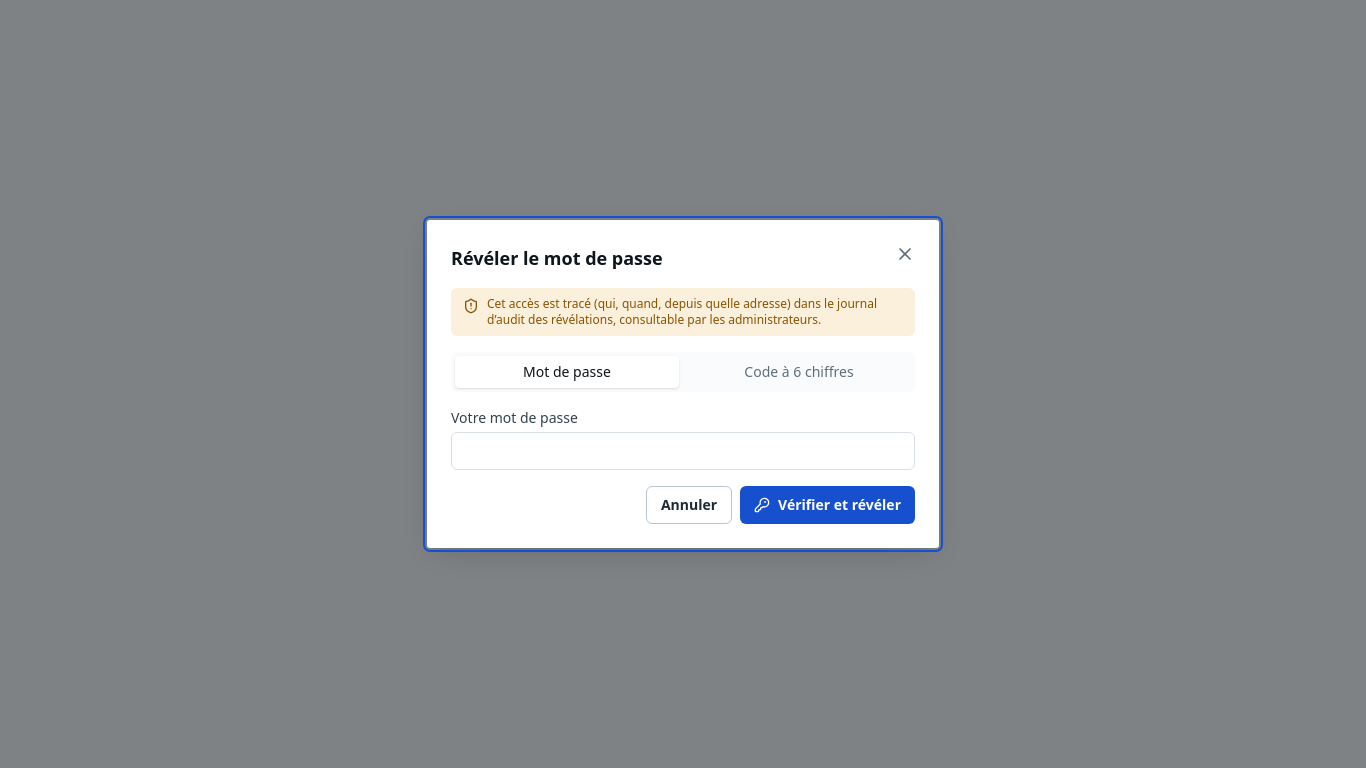
it: RevealSecretModal › ré-authentification › affiche le secret déchiffré après une ré-authentification réussie
Type "MotDePasse!" into the password field labelled "Votre mot de passe". click: (683, 451)
box: [451,432,915,470]
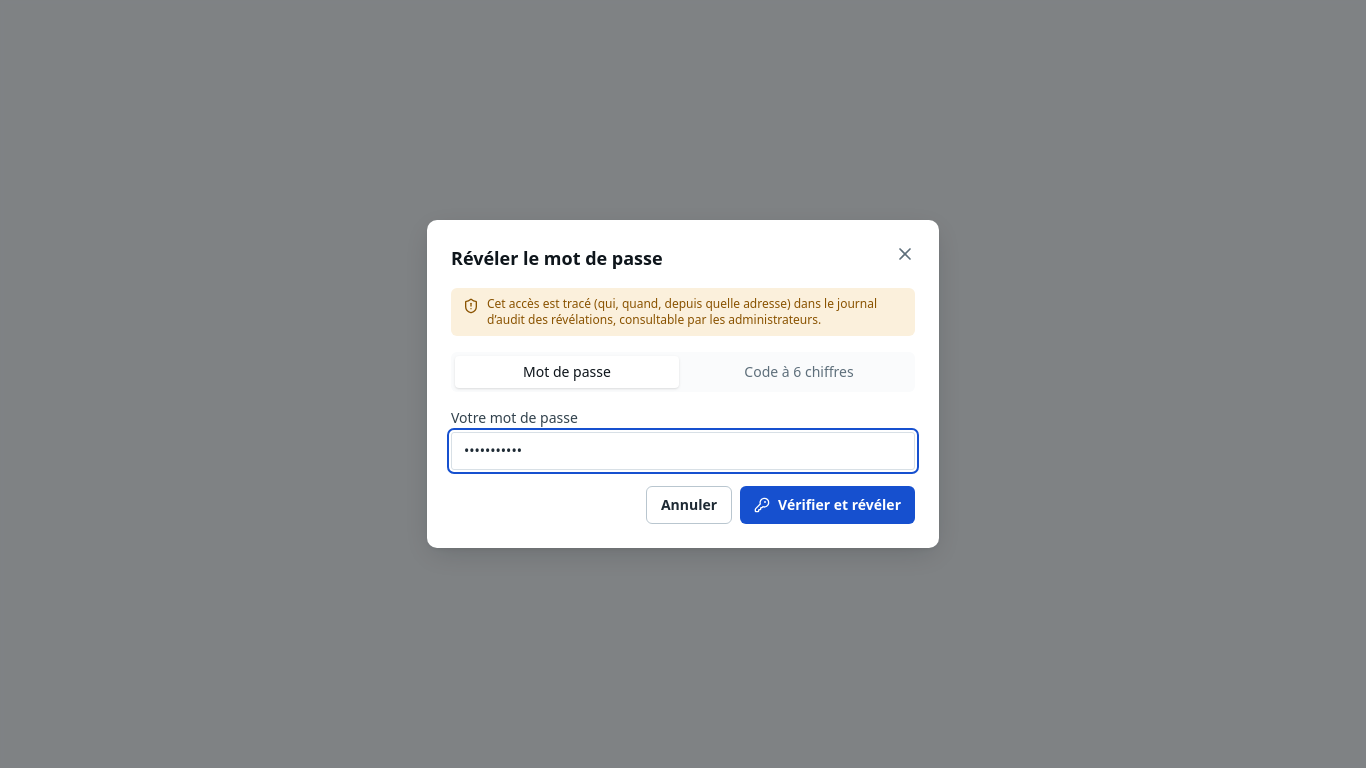
Click the button "Vérifier et révéler". click: (828, 505)
box: [740,486,915,524]
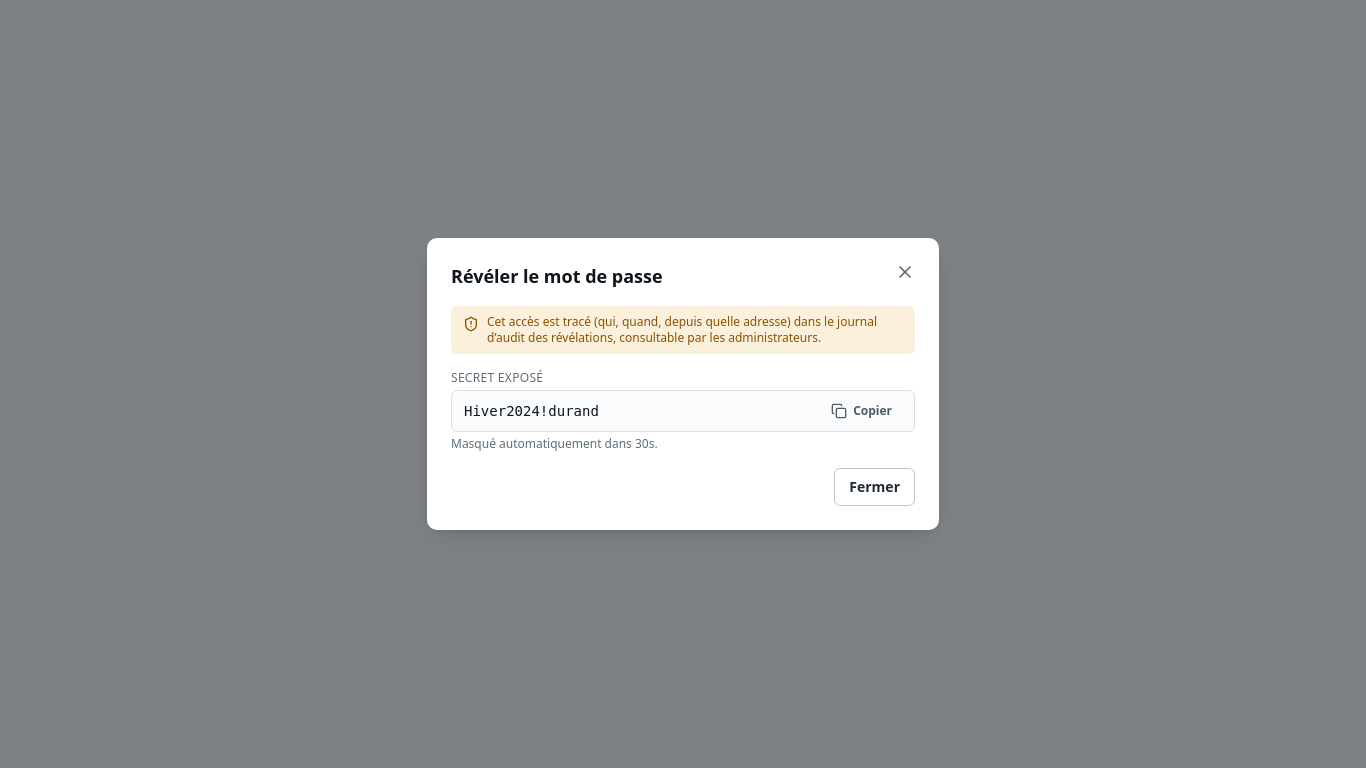
Now the text "Hiver2024!durand" is shown, box [464,403,599,419]
